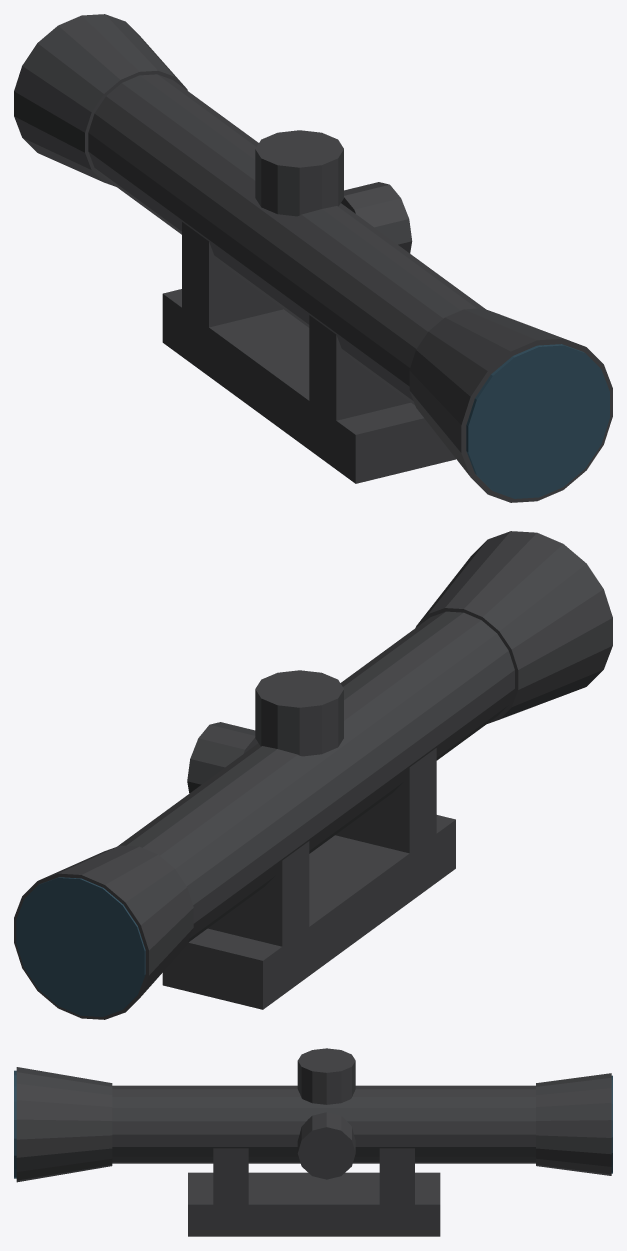
Rendered from optic_scope_4x.glb.
3 renders of one model, top to bottom at view 1: azimuth 30°, elevation 25°; view 2: azimuth 150°, elevation 25°; view 3: azimuth 270°, elevation 25°, orthographic. The views are drawn at different scales.
Visible parts, largest first — view 1: sc_tube, sc_mount, sc_objective_lens, sc_eyepiece, sc_objective, sc_elev_turret, sc_ring_1, sc_ring_0, sc_wind_turret; view 2: sc_tube, sc_mount, sc_objective, sc_eye_lens, sc_eyepiece, sc_elev_turret, sc_ring_0, sc_ring_1, sc_wind_turret; view 3: sc_tube, sc_mount, sc_objective, sc_eyepiece, sc_wind_turret, sc_elev_turret, sc_ring_0, sc_ring_1, sc_objective_lens.
Part boxes in pixels (x1,y1,x2,y2): sc_tube: (88, 74, 485, 404); sc_mount: (162, 289, 455, 483); sc_objective_lens: (466, 344, 609, 498); sc_eyepiece: (14, 14, 187, 186); sc_objective: (409, 308, 612, 502); sc_elev_turret: (255, 130, 343, 216); sc_ring_1: (309, 315, 410, 434); sc_ring_0: (182, 222, 282, 340); sc_wind_turret: (341, 182, 412, 253); sc_tube: (117, 611, 514, 942); sc_mount: (162, 815, 455, 1009); sc_objective: (415, 531, 612, 723); sc_eye_lens: (16, 877, 145, 1016); sc_eyepiece: (14, 845, 193, 1019); sc_elev_turret: (255, 670, 343, 756); sc_ring_0: (208, 841, 309, 960); sc_ring_1: (335, 748, 436, 866); sc_wind_turret: (187, 722, 257, 793); sc_tube: (112, 1085, 535, 1163); sc_mount: (188, 1172, 440, 1236); sc_objective: (16, 1067, 112, 1182); sc_eyepiece: (536, 1073, 611, 1175); sc_wind_turret: (297, 1112, 355, 1179); sc_elev_turret: (297, 1048, 355, 1104); sc_ring_0: (379, 1148, 414, 1213); sc_ring_1: (213, 1148, 248, 1213); sc_objective_lens: (14, 1070, 16, 1178).
Size of the model in its own units: 0.0497 by 0.07 by 0.2375.
